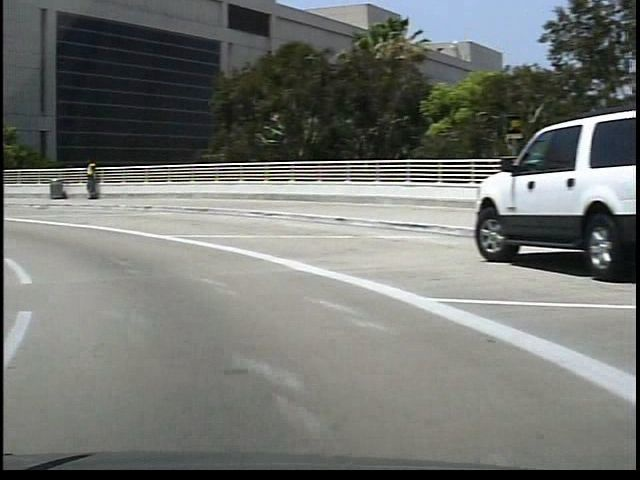person: (79, 154, 97, 200)
